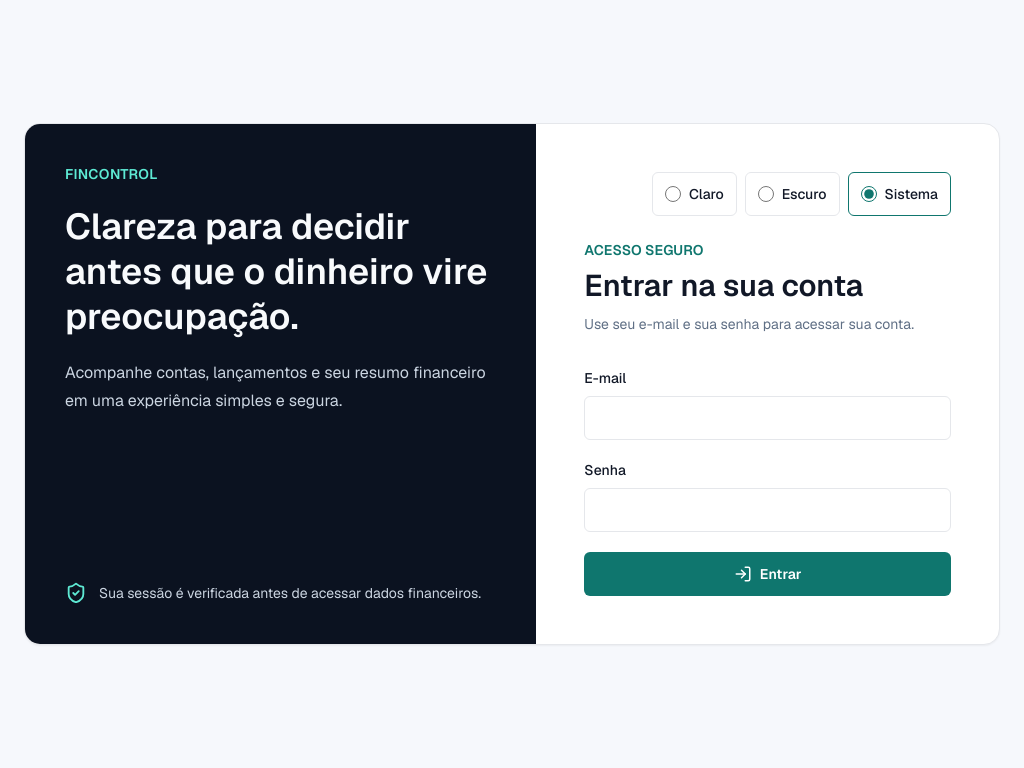
it: LoginPage › shows a generic error without exposing provider details
Type "usuario@example.com" into the field labelled "E-mail".
click(768, 418); type("usuario@example.com")  # box [584,396,951,440]
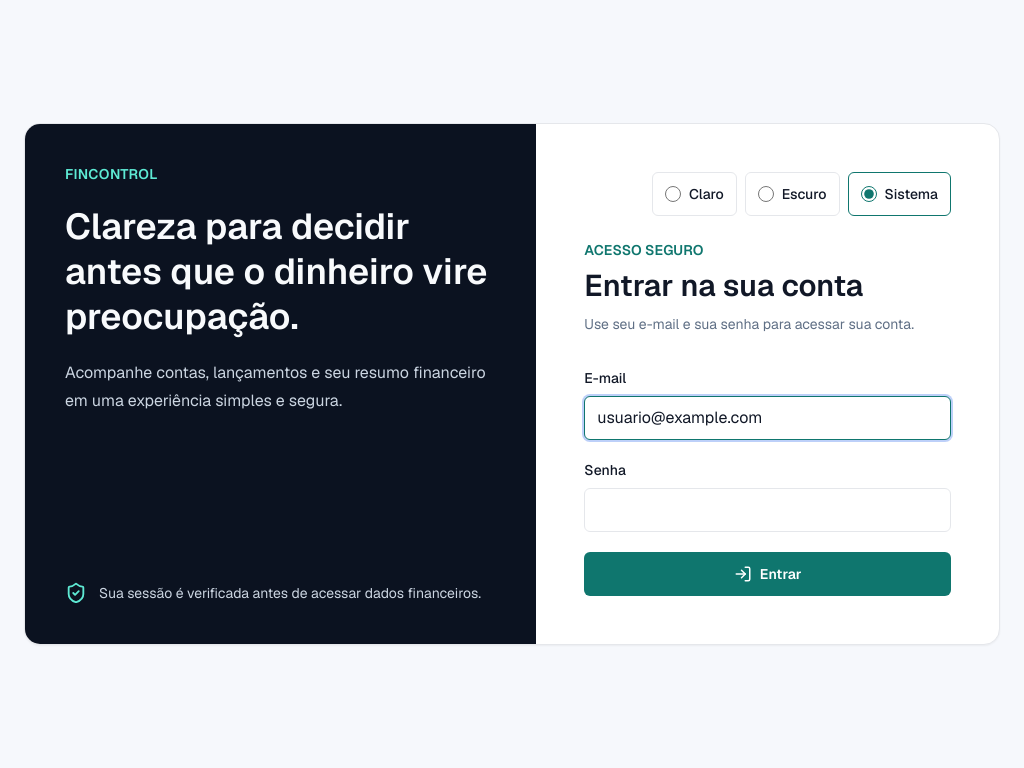
Type "senha-segura" into the password field labelled "Senha".
click(768, 510); type("senha-segura")  # box [584,488,951,532]
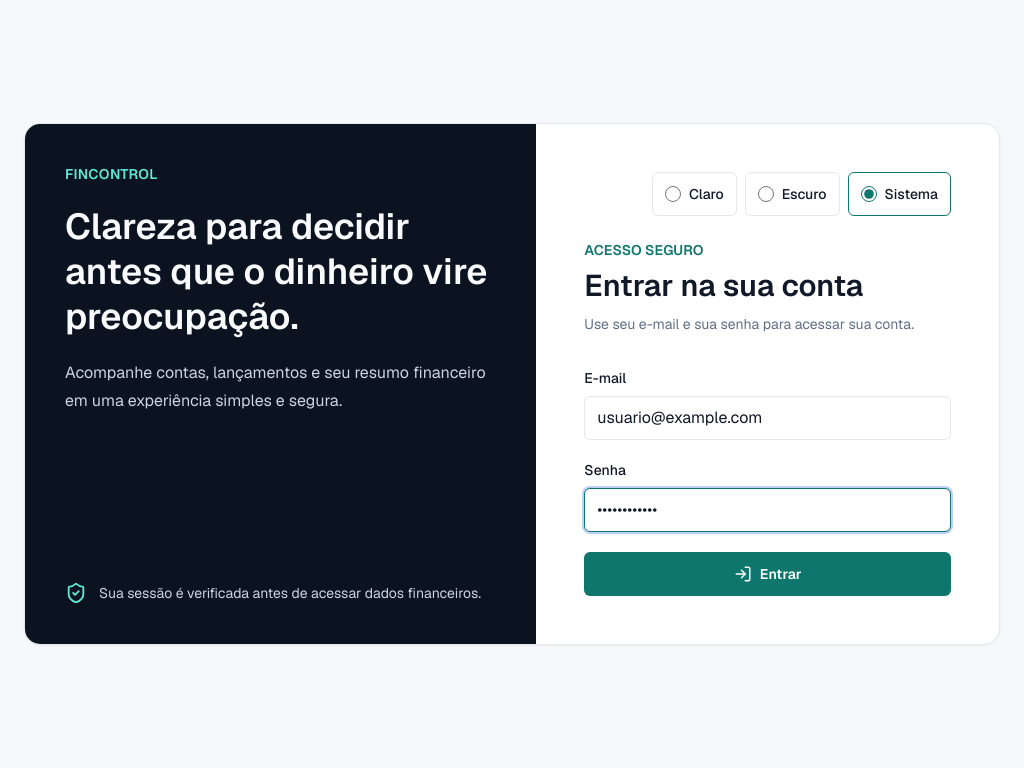
Click the button "Entrar".
click(768, 574)  # box [584,552,951,596]
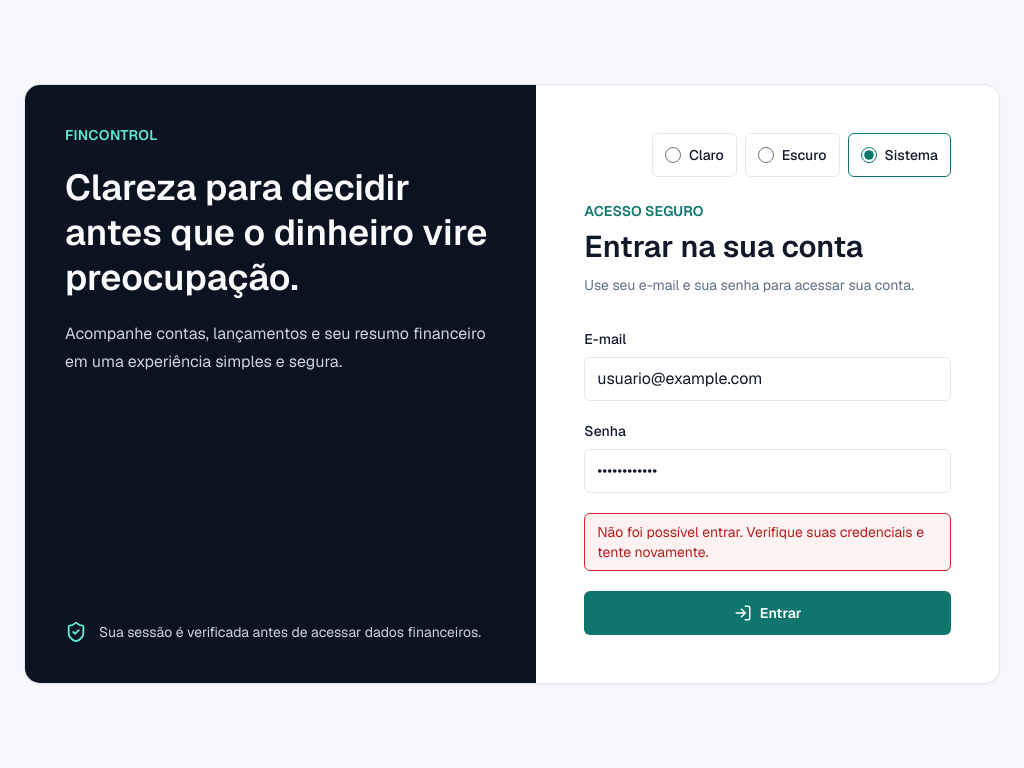
Expected: the button "Entrar" is enabled, [584,591,951,635]
Now the message reads "Não foi possível entrar. Verifique suas credenciais e tente novamente.", box [597,523,924,561]
